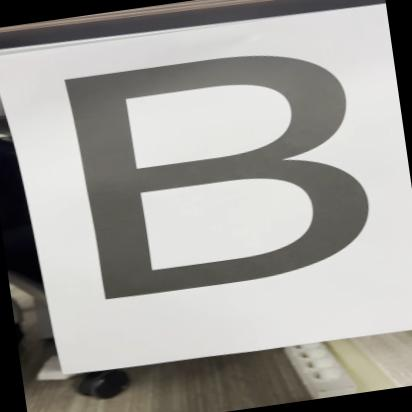seat: (29, 16, 410, 327)
